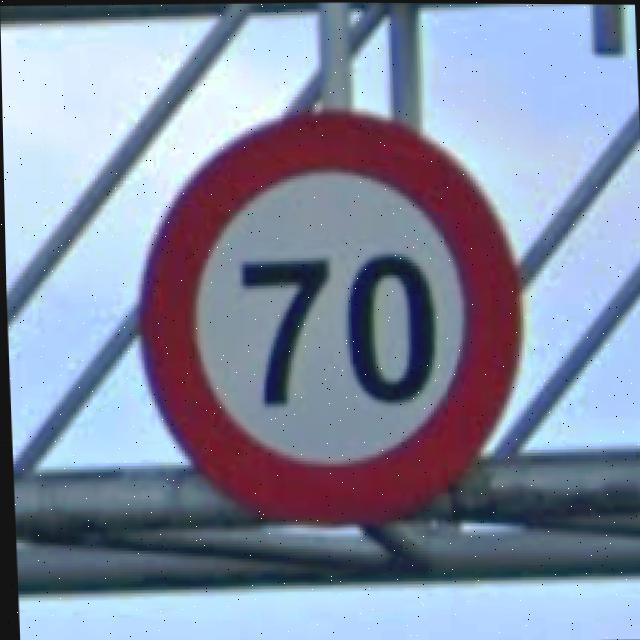max70: (125, 98, 532, 528)
